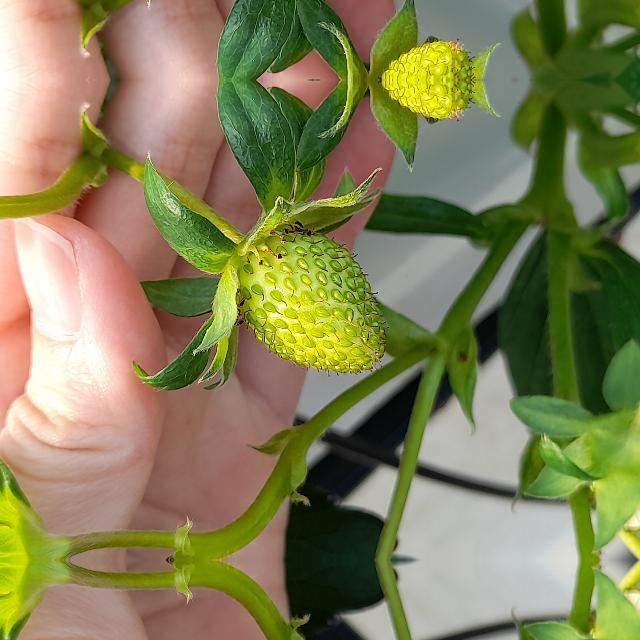Health_25: (238, 230, 388, 376)
